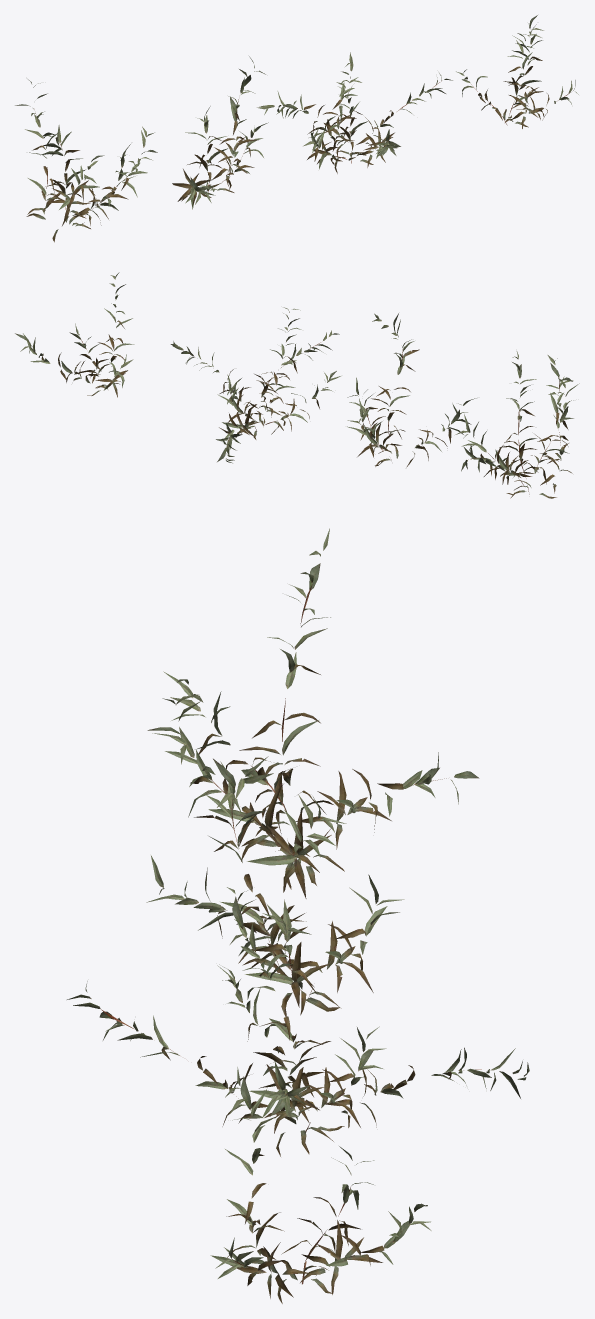
File: shrub_02.glb
3 renders of one model, top to bottom at view 1: azimuth 30°, elevation 25°; view 2: azimuth 150°, elevation 25°; view 3: azimuth 270°, elevation 25°, orthographic. The views are drawn at different scales.
Parts seen in each view (by area): view 1: shrub_02_c, shrub_02_a, shrub_02_b, shrub_02_d; view 2: shrub_02_a, shrub_02_c, shrub_02_b, shrub_02_d; view 3: shrub_02_a, shrub_02_c, shrub_02_b, shrub_02_d.
Part boxes in pixels (<box>): shrub_02_c: <box>257,52,452,173</box>; shrub_02_a: <box>15,79,157,242</box>; shrub_02_b: <box>172,56,268,209</box>; shrub_02_d: <box>456,15,578,128</box>; shrub_02_a: <box>455,351,579,498</box>; shrub_02_c: <box>170,307,340,463</box>; shrub_02_b: <box>347,313,476,467</box>; shrub_02_d: <box>15,272,134,397</box>; shrub_02_a: <box>147,528,479,898</box>; shrub_02_c: <box>67,887,529,1156</box>; shrub_02_b: <box>146,756,404,1016</box>; shrub_02_d: <box>210,1067,431,1303</box>.
Size of the model in its own units: 6.05 by 1.7 by 2.28.
Materials: 1 (1 with a texture image).
